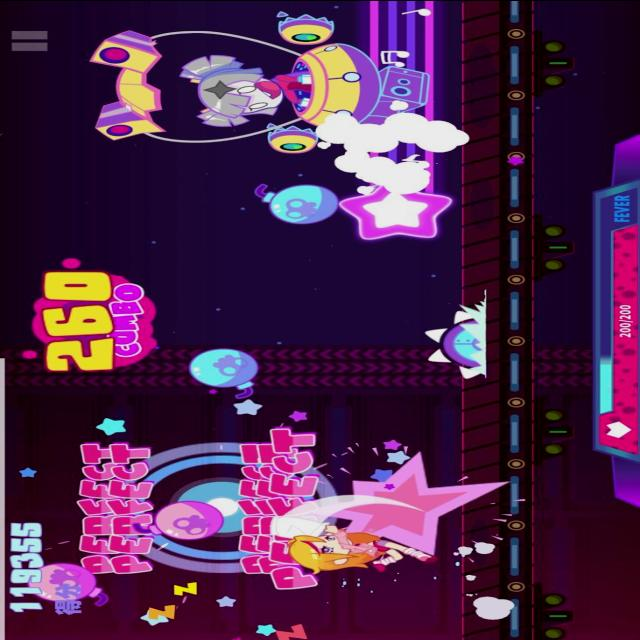ci: (421, 281, 492, 378)
hold: (339, 0, 452, 241)
qiangboss: (90, 10, 438, 154)
tang: (245, 178, 337, 230), (126, 496, 224, 544), (187, 342, 267, 396), (23, 560, 108, 605)
